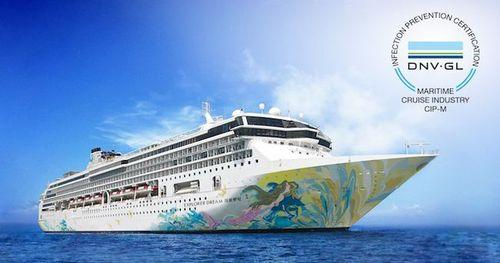Ship: (32, 109, 439, 234)
